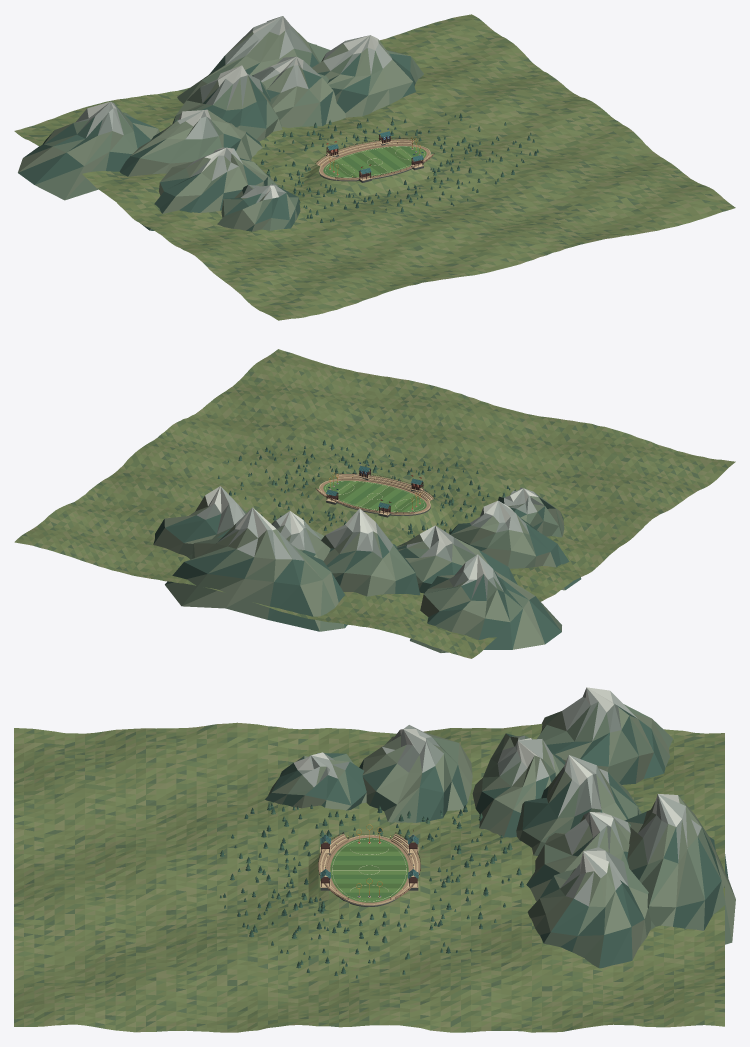
File: pitch.glb
3 views of the same model, one above another, from view 1: azimuth 30°, elevation 25°; view 2: azimuth 150°, elevation 25°; view 3: azimuth 270°, elevation 25° (orthographic). The views are drawn at different scales.
Visible parts, largest first — view 1: Triangulated alpine meadow, Faceted alpine ridge.006, Faceted alpine ridge.003, Faceted alpine ridge, Faceted alpine ridge.004, Faceted alpine ridge.002, Faceted alpine ridge.001, Faceted alpine ridge.007, Faceted alpine ridge.005, Pines around the basin, Oval playing surface · 106 × 54 m; view 2: Triangulated alpine meadow, Faceted alpine ridge.007, Faceted alpine ridge.006, Faceted alpine ridge.001, Faceted alpine ridge.004, Faceted alpine ridge, Faceted alpine ridge.003, Oval playing surface · 106 × 54 m, Pines around the basin, Faceted alpine ridge.005, Faceted alpine ridge.002; view 3: Triangulated alpine meadow, Faceted alpine ridge.007, Faceted alpine ridge.003, Faceted alpine ridge.004, Faceted alpine ridge.006, Faceted alpine ridge.001, Faceted alpine ridge, Faceted alpine ridge.005, Pines around the basin, Oval playing surface · 106 × 54 m, Faceted alpine ridge.002, Broad perimeter walkway.
Part boxes in pixels (x1,y1,x2,y2): Triangulated alpine meadow: (14, 14, 735, 320); Faceted alpine ridge.006: (18, 101, 159, 200); Faceted alpine ridge.003: (312, 35, 423, 117); Faceted alpine ridge: (119, 109, 262, 176); Faceted alpine ridge.004: (140, 147, 278, 230); Faceted alpine ridge.002: (252, 56, 345, 127); Faceted alpine ridge.001: (172, 65, 282, 141); Faceted alpine ridge.007: (177, 16, 330, 103); Faceted alpine ridge.005: (217, 184, 300, 231); Pines around the basin: (256, 113, 538, 222); Oval playing surface · 106 × 54 m: (323, 146, 426, 178); Triangulated alpine meadow: (14, 349, 735, 658); Faceted alpine ridge.007: (165, 507, 347, 631); Faceted alpine ridge.006: (410, 554, 561, 652); Faceted alpine ridge.001: (321, 508, 420, 596); Faceted alpine ridge.004: (449, 500, 581, 590); Faceted alpine ridge: (396, 525, 517, 593); Faceted alpine ridge.003: (153, 486, 246, 559); Oval playing surface · 106 × 54 m: (323, 480, 426, 512); Pines around the basin: (217, 440, 515, 537); Faceted alpine ridge.005: (498, 487, 564, 537); Faceted alpine ridge.002: (271, 511, 330, 560); Triangulated alpine meadow: (14, 722, 724, 1032); Faceted alpine ridge.007: (624, 794, 735, 944); Faceted alpine ridge.003: (527, 847, 655, 968); Faceted alpine ridge.004: (359, 725, 472, 822); Faceted alpine ridge.006: (537, 687, 672, 784); Faceted alpine ridge.001: (516, 755, 641, 855); Faceted alpine ridge: (472, 733, 565, 837); Faceted alpine ridge.005: (265, 752, 366, 810); Pines around the basin: (220, 803, 524, 978); Oval playing surface · 106 × 54 m: (330, 837, 408, 902); Faceted alpine ridge.002: (526, 812, 630, 901); Broad perimeter walkway: (327, 836, 411, 905).
Size of the model in its own units: 527 by 92.5 by 498.
